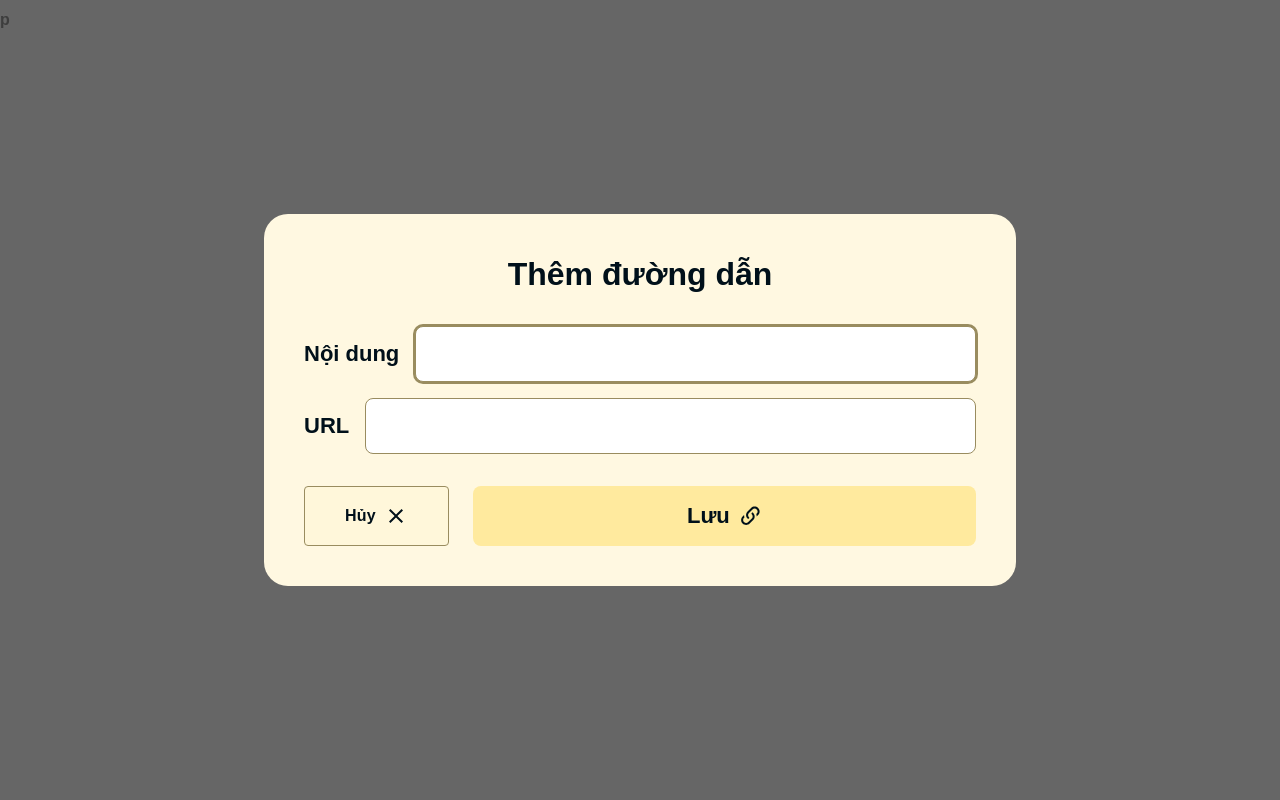
Test case: toolbar link -> Add Link modal › toggle inside an existing link removes it instead of opening the modal
This screenshot has width=1280, height=800.
Expected: the field named "Kudos content" is shown, [0, 0, 1279, 120]
Type "Docs" into the field labelled "Nội dung". click: {"x": 696, "y": 354}
box: [415, 326, 976, 382]
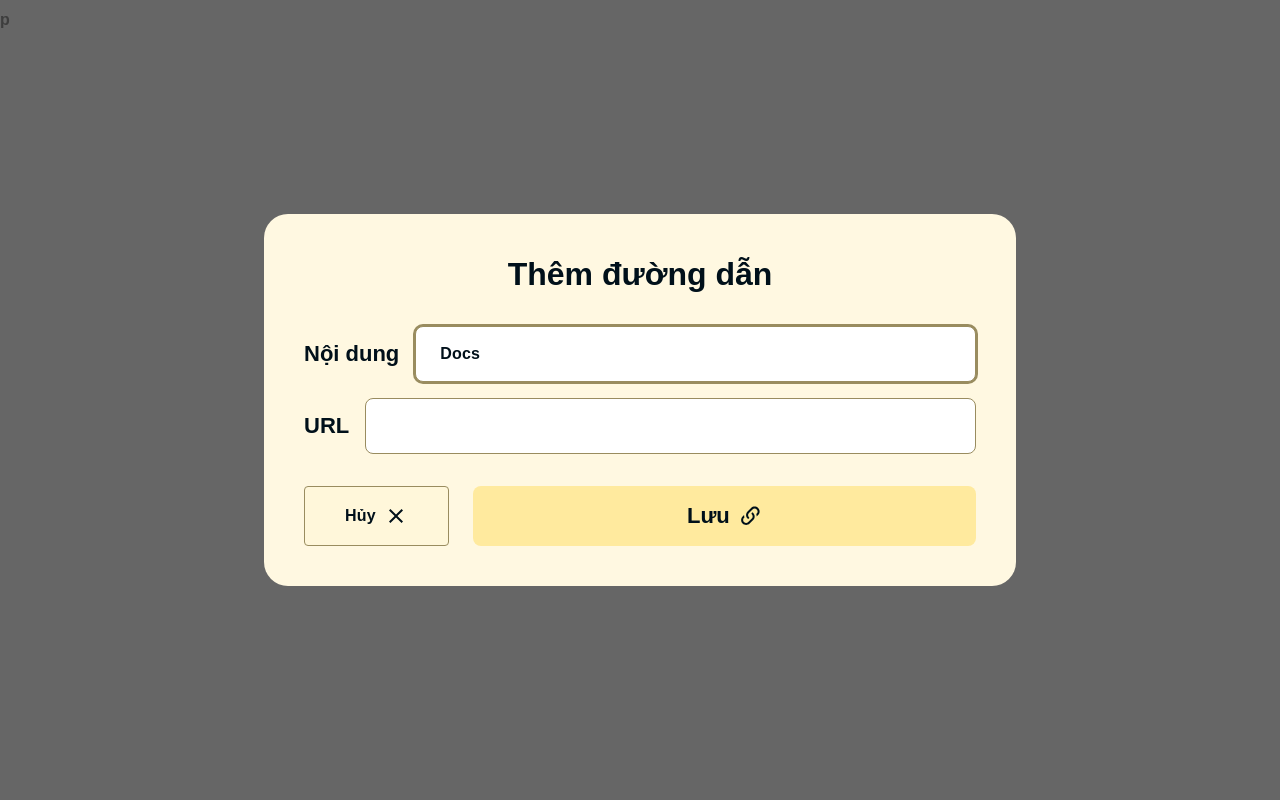
Type "https://example.com" into the field labelled "URL". click: {"x": 671, "y": 426}
box: [365, 398, 976, 454]
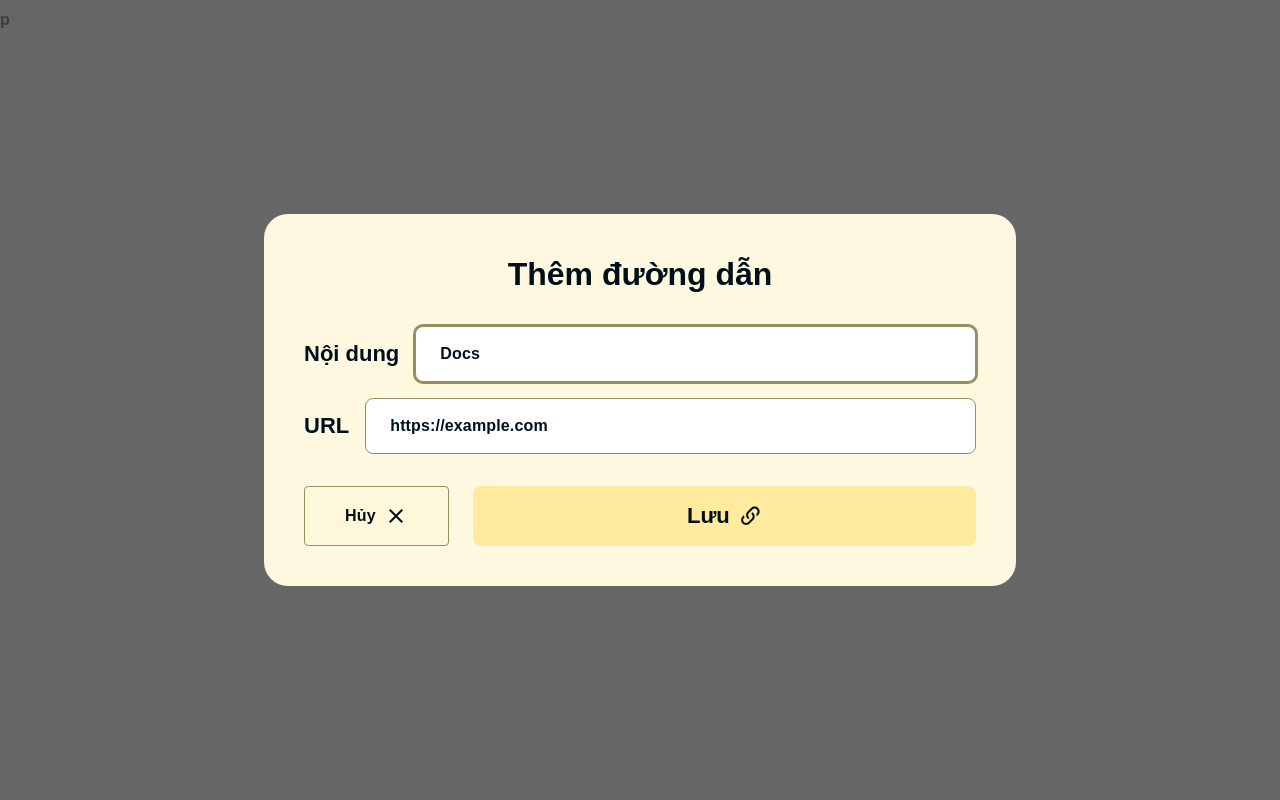
Click the button "Lưu". click: {"x": 724, "y": 516}
box: [473, 486, 976, 546]
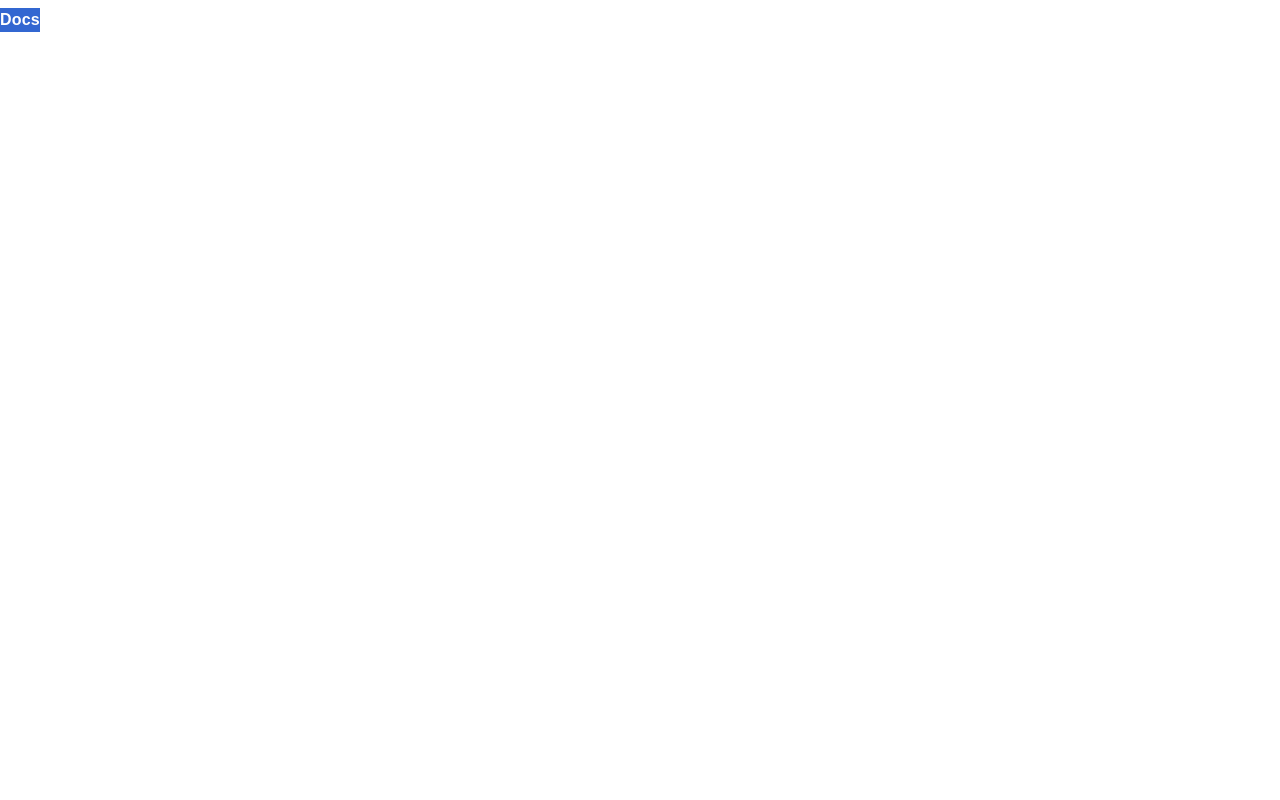
Expected: the label labelled "Nội dung" is gone
